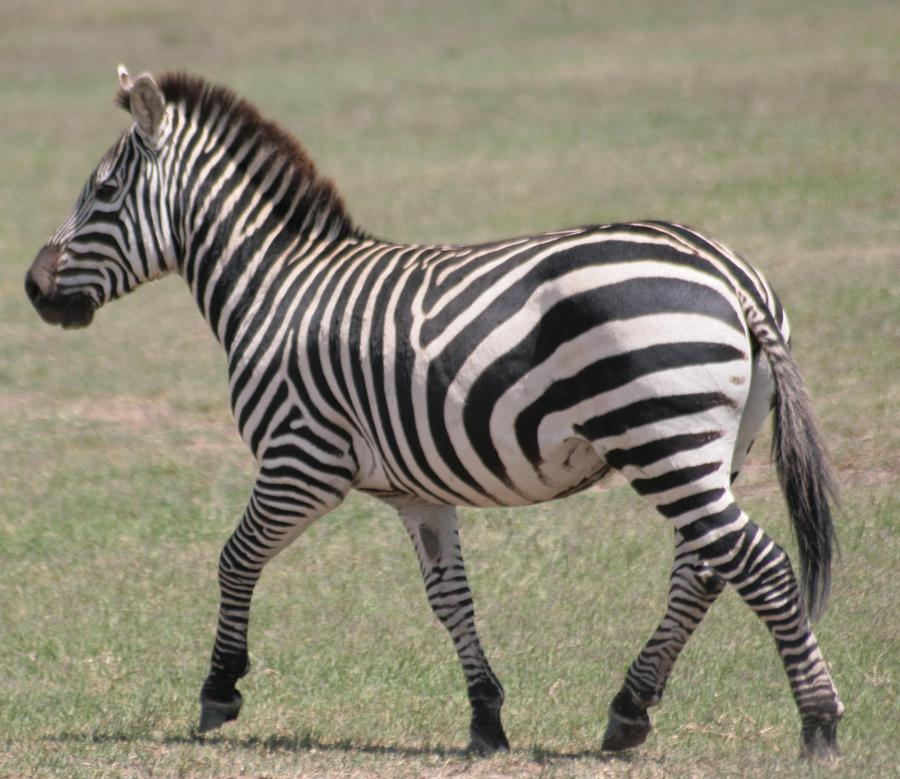zebra_plains: (241, 230, 748, 498)
